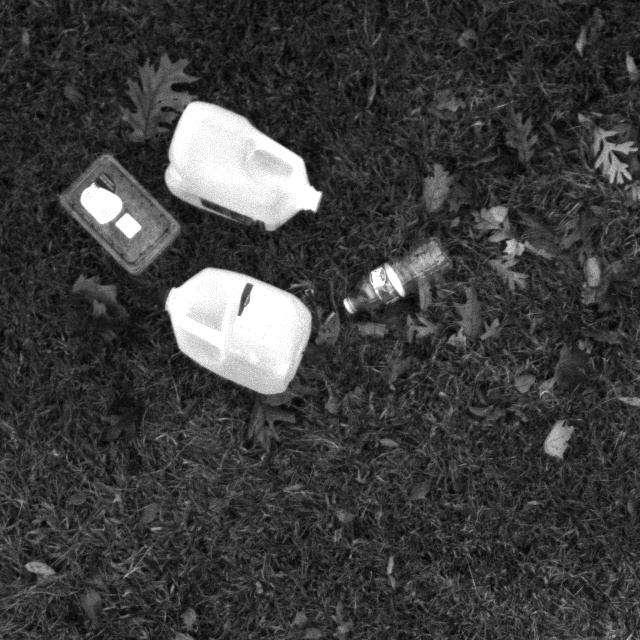bottle: (338, 225, 452, 335)
can: (157, 256, 322, 414), (157, 89, 331, 238)
container: (49, 142, 191, 290)
